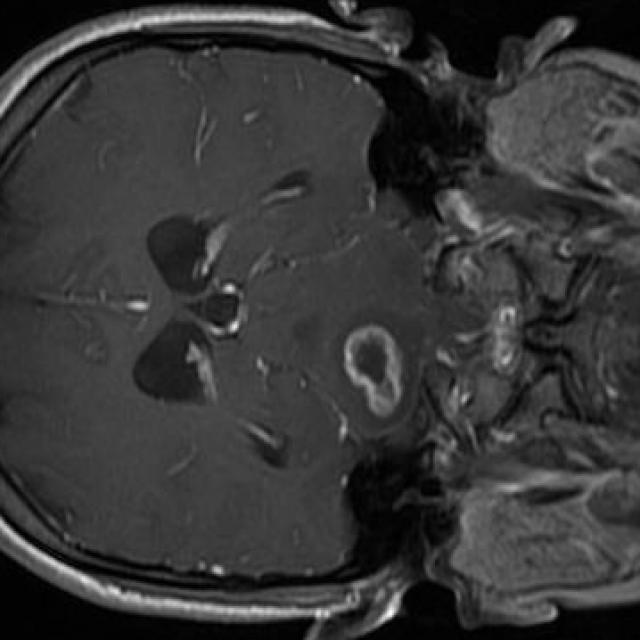glioma: (342, 312, 417, 426)
